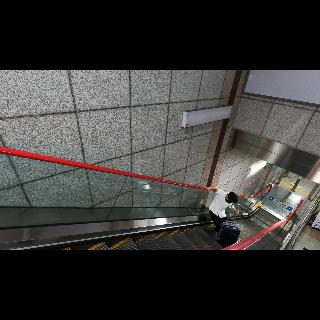anomaly: (202, 182, 242, 240)
